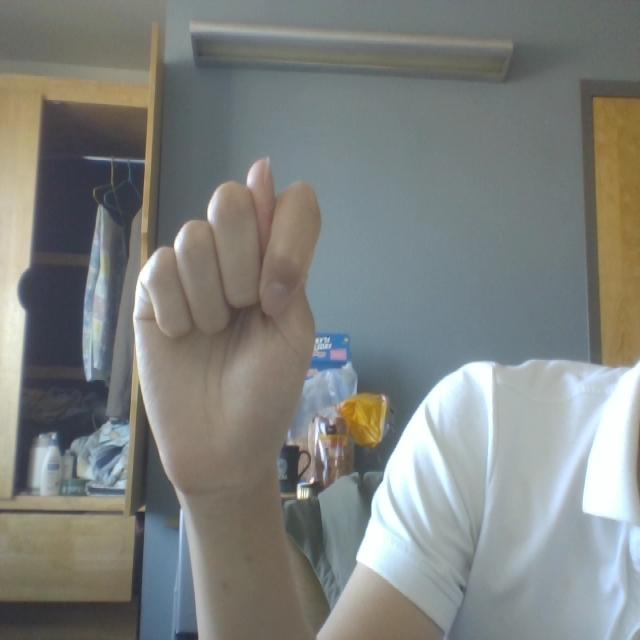T: (129, 132, 369, 511)
